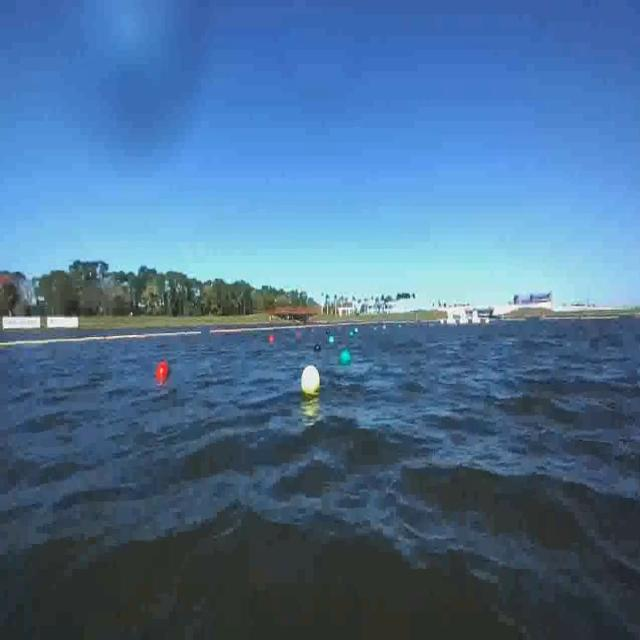black-buoy: (314, 341, 322, 353)
green-buoy: (340, 348, 352, 367)
red-buoy: (158, 360, 171, 380)
yellow-buoy: (300, 364, 319, 396)
